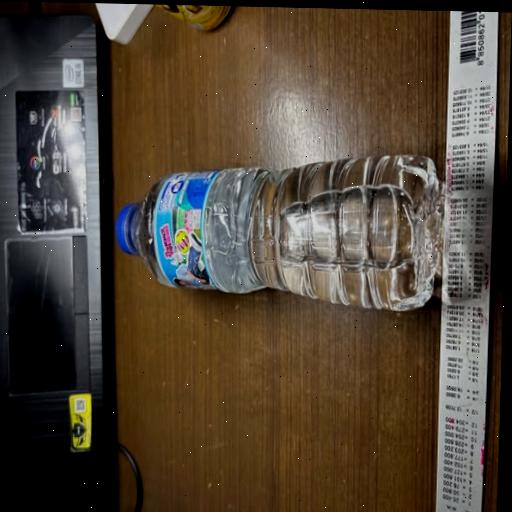ba: (100, 92, 460, 323)
